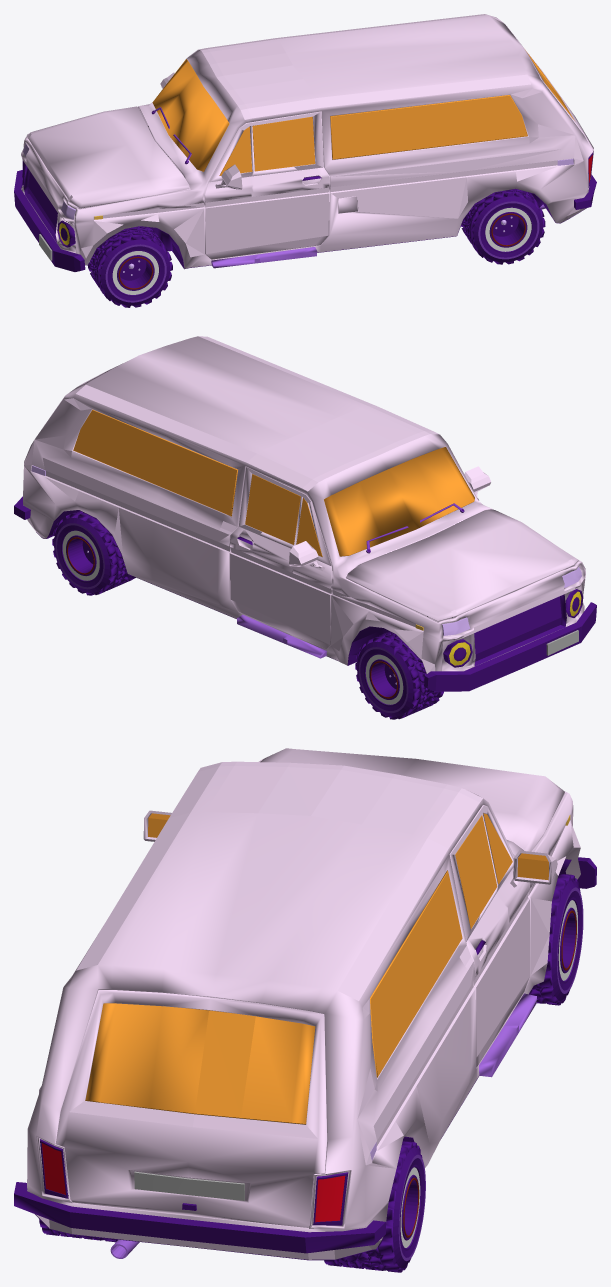
The model's file is ToyObject_092.fbx.
3 views of the same model, one above another, from view 1: azimuth 30°, elevation 25°; view 2: azimuth 150°, elevation 25°; view 3: azimuth 270°, elevation 25° (orthographic). The views are drawn at different scales.
Visible parts, largest first — view 1: object-1.040; view 2: object-1.040; view 3: object-1.040.
Part boxes in pixels (left/top/right/bottom): object-1.040: left=14, top=14, right=596, bottom=307; object-1.040: left=14, top=336, right=596, bottom=719; object-1.040: left=14, top=748, right=596, bottom=1272.
Size of the model in its own units: 0.2595 by 0.0869 by 0.1538.
Materials: 4 (1 with a texture image).
